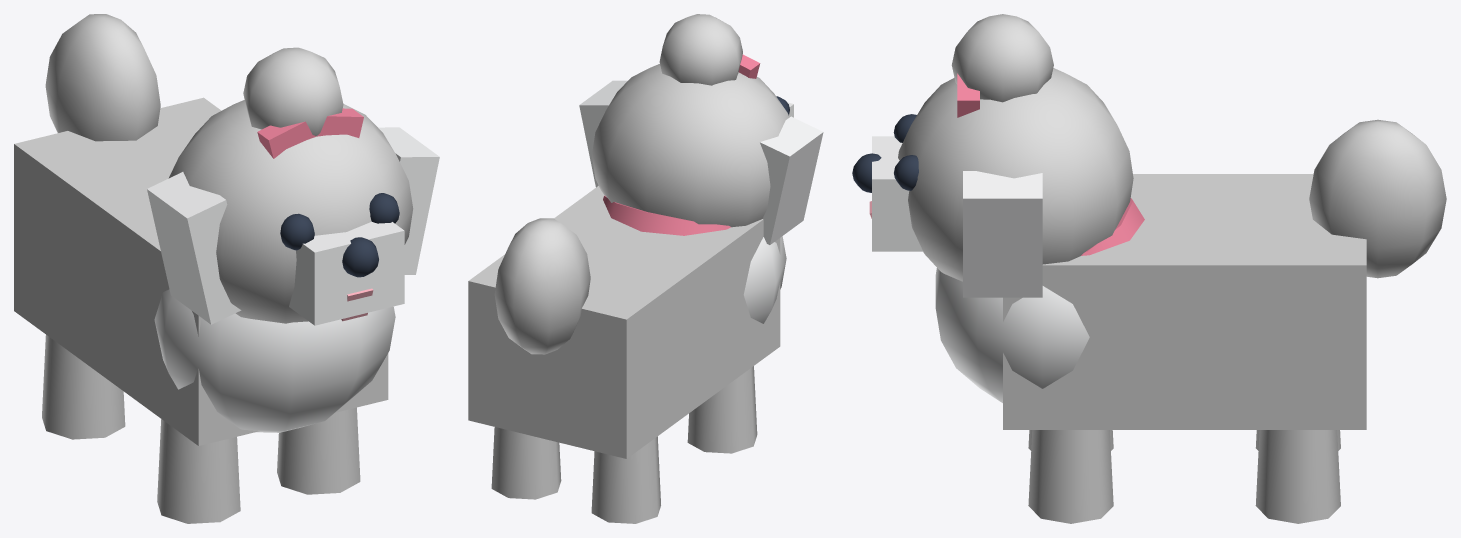
The model's file is dunya.glb.
3 renders of one model, left to right at view 1: azimuth 30°, elevation 25°; view 2: azimuth 150°, elevation 25°; view 3: azimuth 270°, elevation 25°, orthographic. The views are drawn at different scales.
Visible parts, largest first — view 1: torso, skull, chestFluff, tailPlume, muzzle, ear_0, legMesh_0, topknot, legMesh_2, legMesh_1, ear_1, bowLeft (+4 smaller); view 2: torso, skull, tailPlume, ear_0, topknot, legMesh_2, legMesh_3, legMesh_0, chestFluff, collar, ear_1; view 3: torso, skull, tailPlume, chestFluff, ear_1, legMesh_1, legMesh_3, topknot, muzzle, collar, eye_1, bowRight.
Boxes of the visible parts, left/top/right/bottom form: torso: left=14, top=97, right=388, bottom=445; skull: left=168, top=100, right=413, bottom=323; chestFluff: left=154, top=289, right=395, bottom=432; tailPlume: left=45, top=14, right=160, bottom=141; muzzle: left=289, top=221, right=404, bottom=325; ear_0: left=147, top=172, right=241, bottom=324; legMesh_0: left=157, top=419, right=240, bottom=523; topknot: left=243, top=47, right=343, bottom=136; legMesh_2: left=42, top=335, right=125, bottom=439; legMesh_1: left=277, top=407, right=360, bottom=494; ear_1: left=378, top=127, right=439, bottom=274; bowLeft: left=257, top=121, right=316, bottom=158; torso: left=468, top=185, right=780, bottom=458; skull: left=592, top=64, right=789, bottom=227; tailPlume: left=494, top=218, right=590, bottom=354; ear_0: left=759, top=116, right=823, bottom=244; topknot: left=659, top=14, right=742, bottom=85; legMesh_2: left=591, top=436, right=660, bottom=523; legMesh_3: left=491, top=427, right=561, bottom=499; legMesh_0: left=687, top=366, right=757, bottom=453; chestFluff: left=743, top=236, right=786, bottom=323; collar: left=603, top=195, right=730, bottom=235; ear_1: left=579, top=80, right=627, bottom=187; torso: left=1003, top=174, right=1366, bottom=429; skull: left=898, top=68, right=1133, bottom=281; tailPlume: left=1309, top=119, right=1446, bottom=278; chestFluff: left=935, top=268, right=1089, bottom=402; ear_1: left=963, top=171, right=1042, bottom=297; legMesh_1: left=1028, top=430, right=1113, bottom=523; legMesh_3: left=1255, top=430, right=1340, bottom=523; topknot: left=951, top=14, right=1053, bottom=102; muzzle: left=872, top=136, right=922, bottom=251; collar: left=1081, top=198, right=1144, bottom=255; eye_1: left=894, top=155, right=918, bottom=190; bowRight: left=957, top=73, right=979, bottom=117.
Size of the model in its own units: 0.5061 by 0.89 by 1.05.
